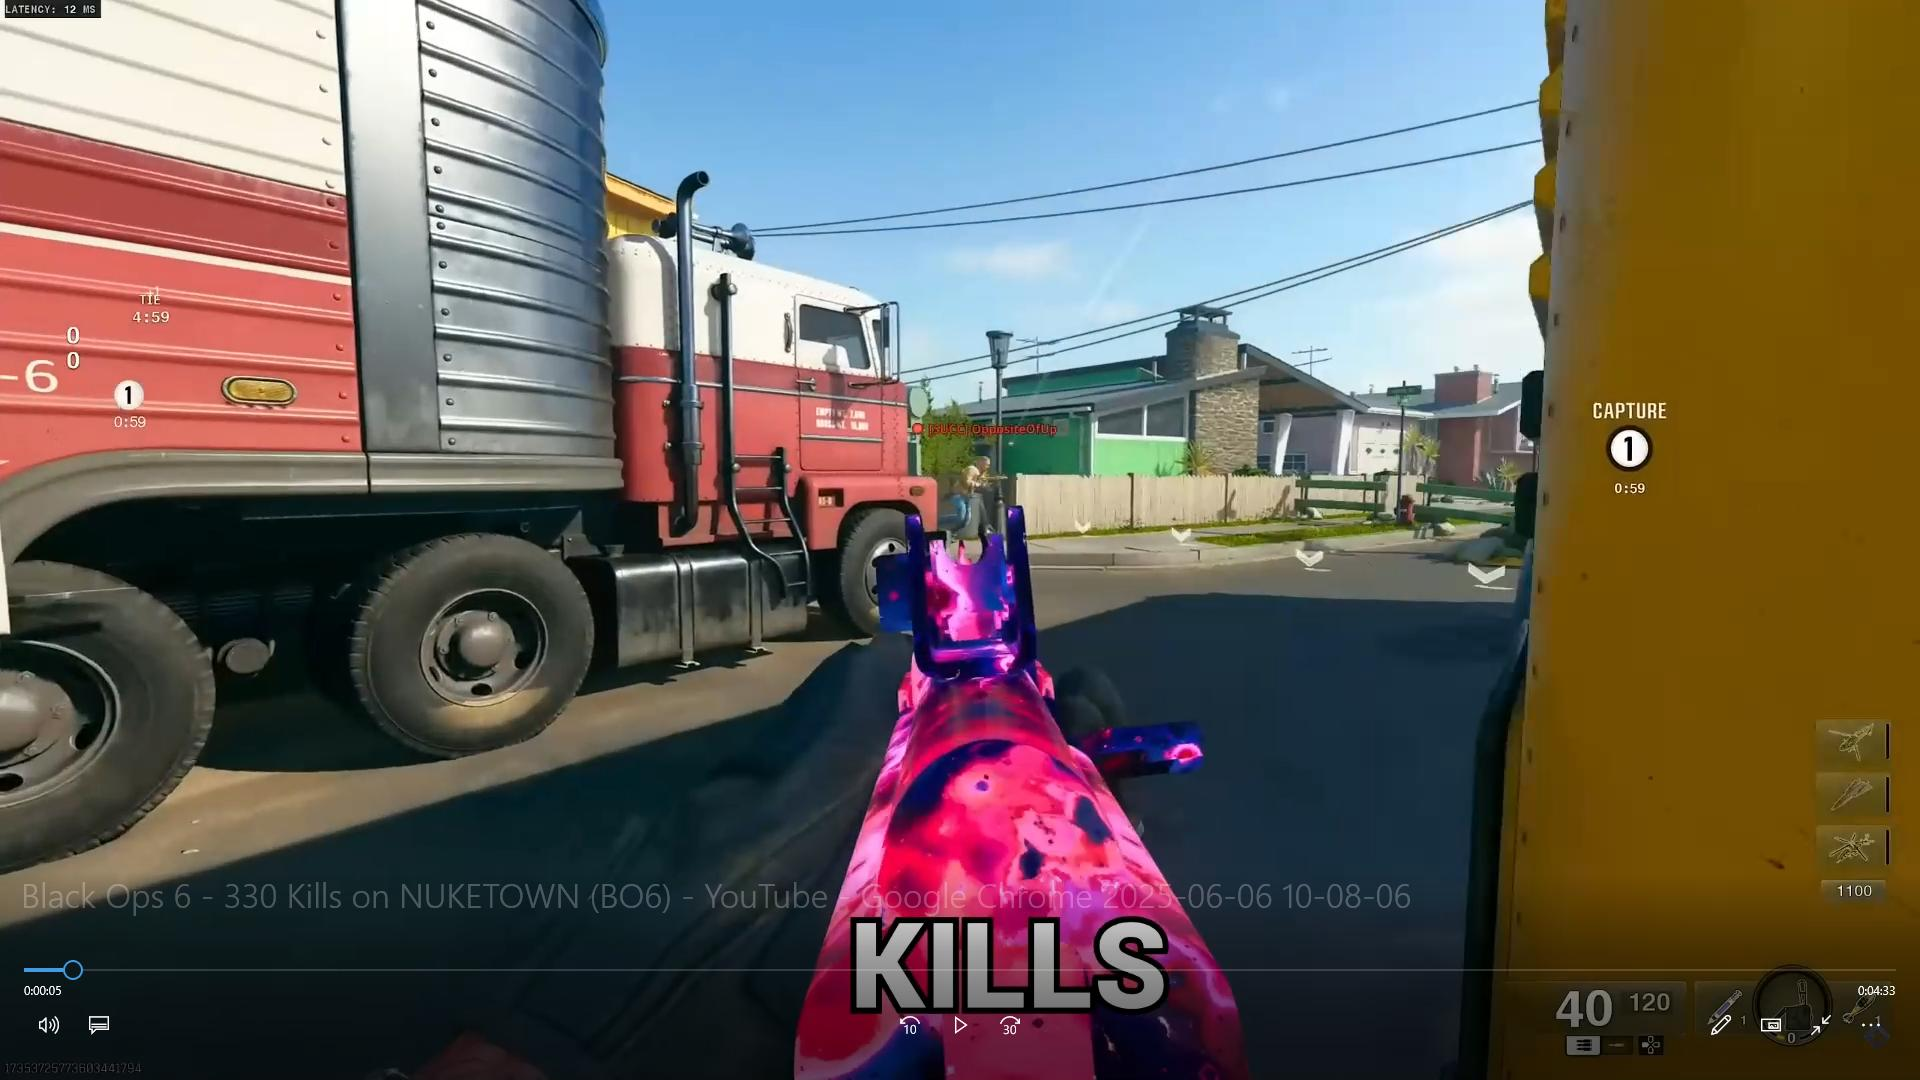Enemy: (915, 409, 1048, 513)
